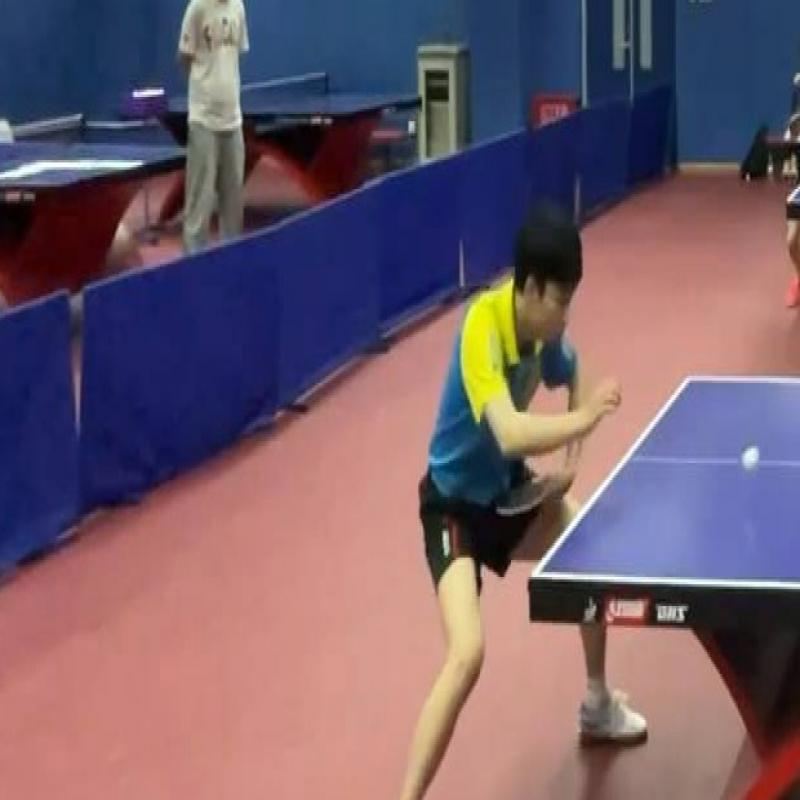bats: (490, 463, 558, 516)
